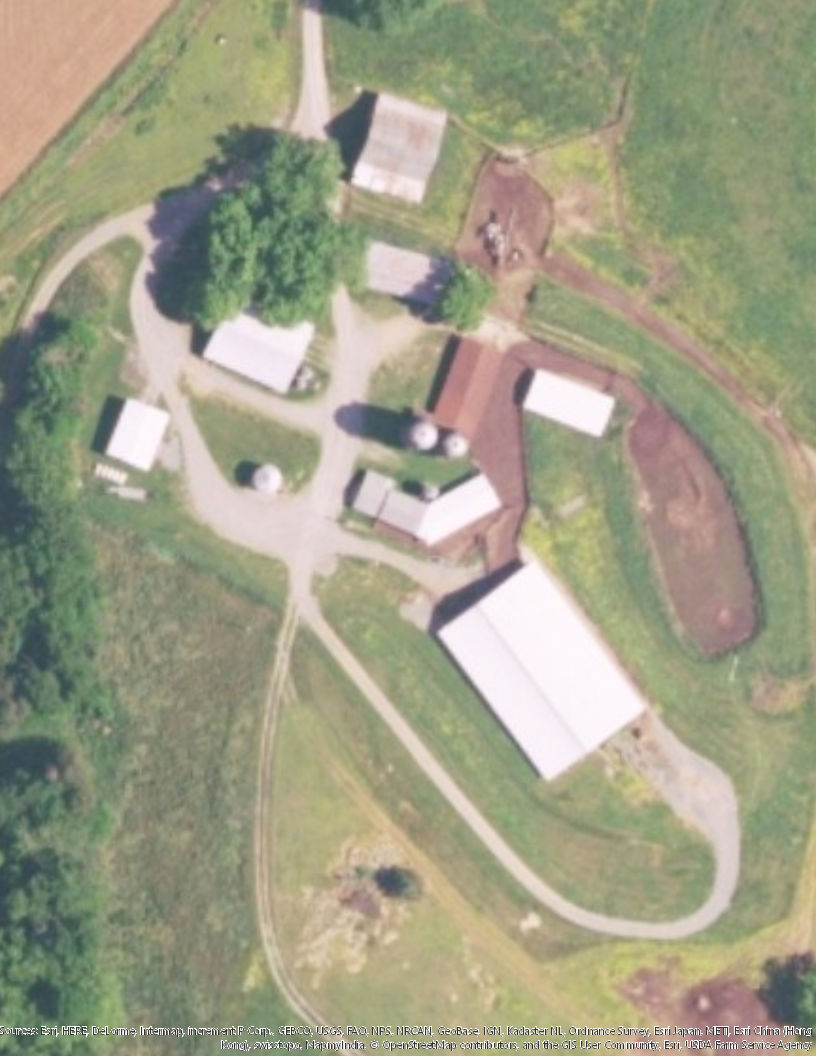cafo: (429, 550, 651, 787)
